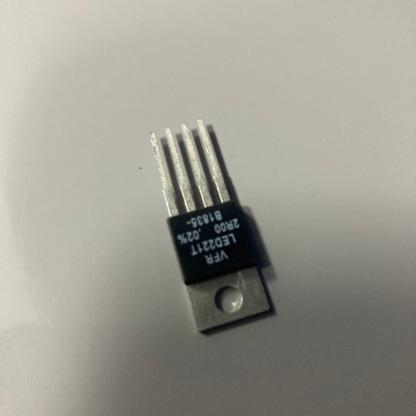SP0000012: (122, 95, 321, 346)
